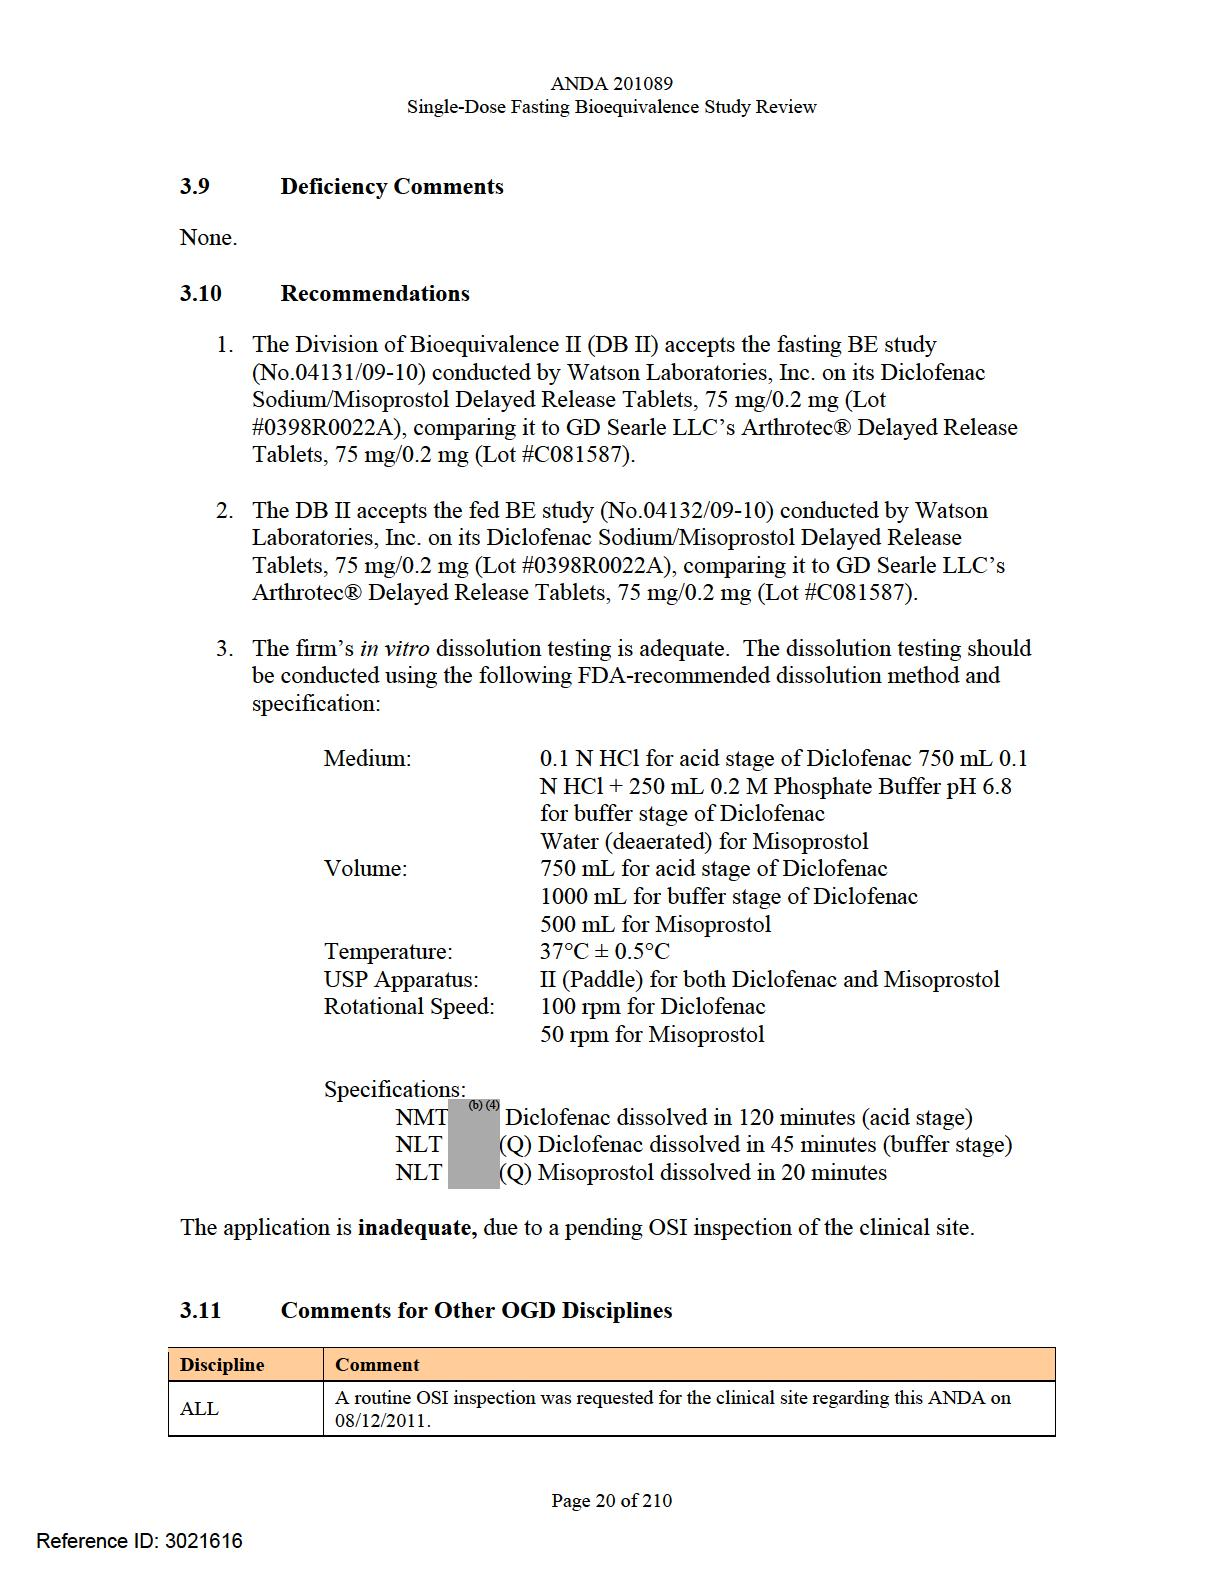full_lined: (167, 1345, 1057, 1437)
nolines: (321, 744, 1029, 1047)
